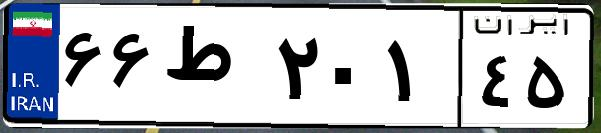0: (330, 28, 385, 110)
1: (385, 28, 445, 110)
2: (270, 28, 330, 110)
4: (475, 38, 525, 113)
5: (525, 38, 570, 115)
6: (57, 26, 110, 100), (110, 28, 158, 98)
ط: (158, 20, 270, 120)
